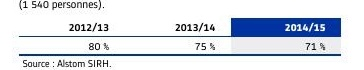table: (0, 0, 364, 70)
